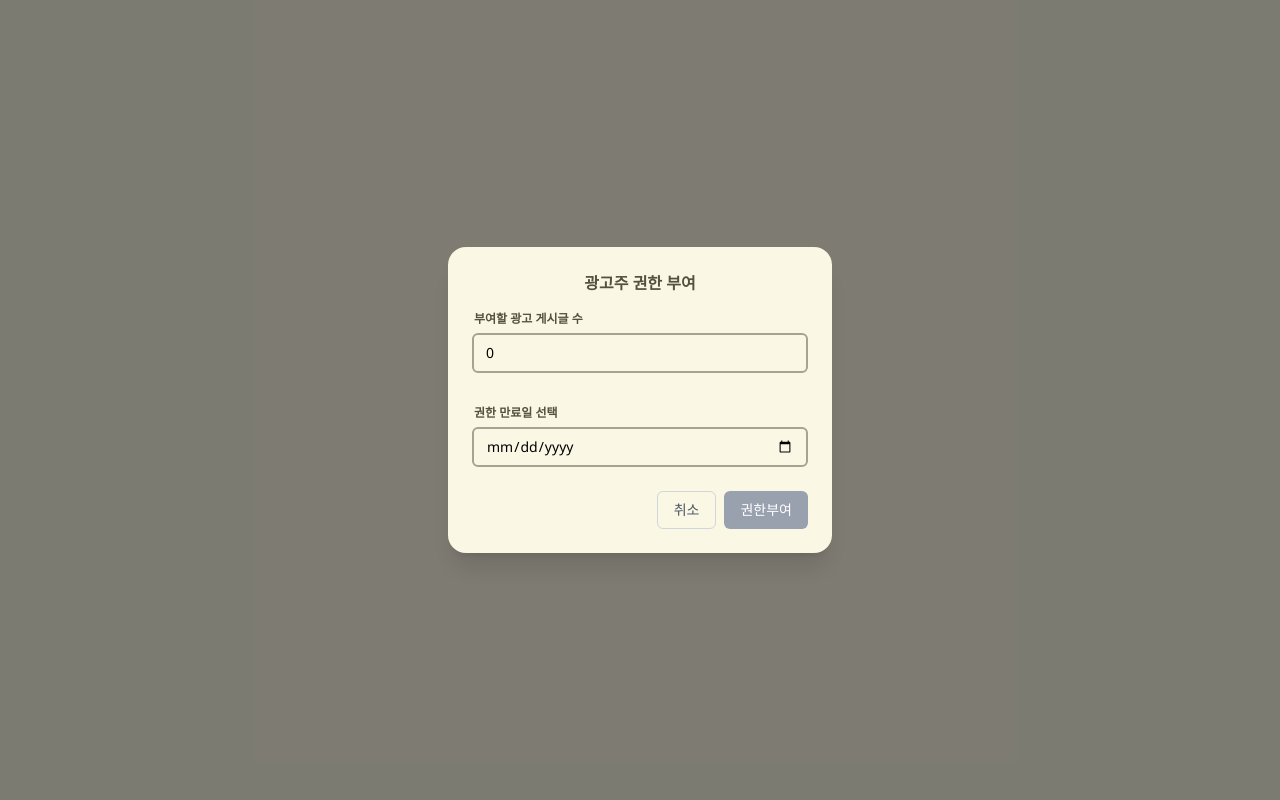
Test: PostAdvertiserRole 광고주 권한 부여 폼 종합 예외 방어 테스트 › 서버 통신 중(isLoading)일 때는 인풋창들과 모든 버튼이 락(disabled) 걸리고 '등록 중...' 텍스트가 나와야 한다
This screenshot has width=1280, height=800.
Replace the text in the number field with placeholder "부여할 광고 게시글 수를 입력하세요 (숫자)" with "5". click: (640, 353)
box: [472, 333, 808, 373]
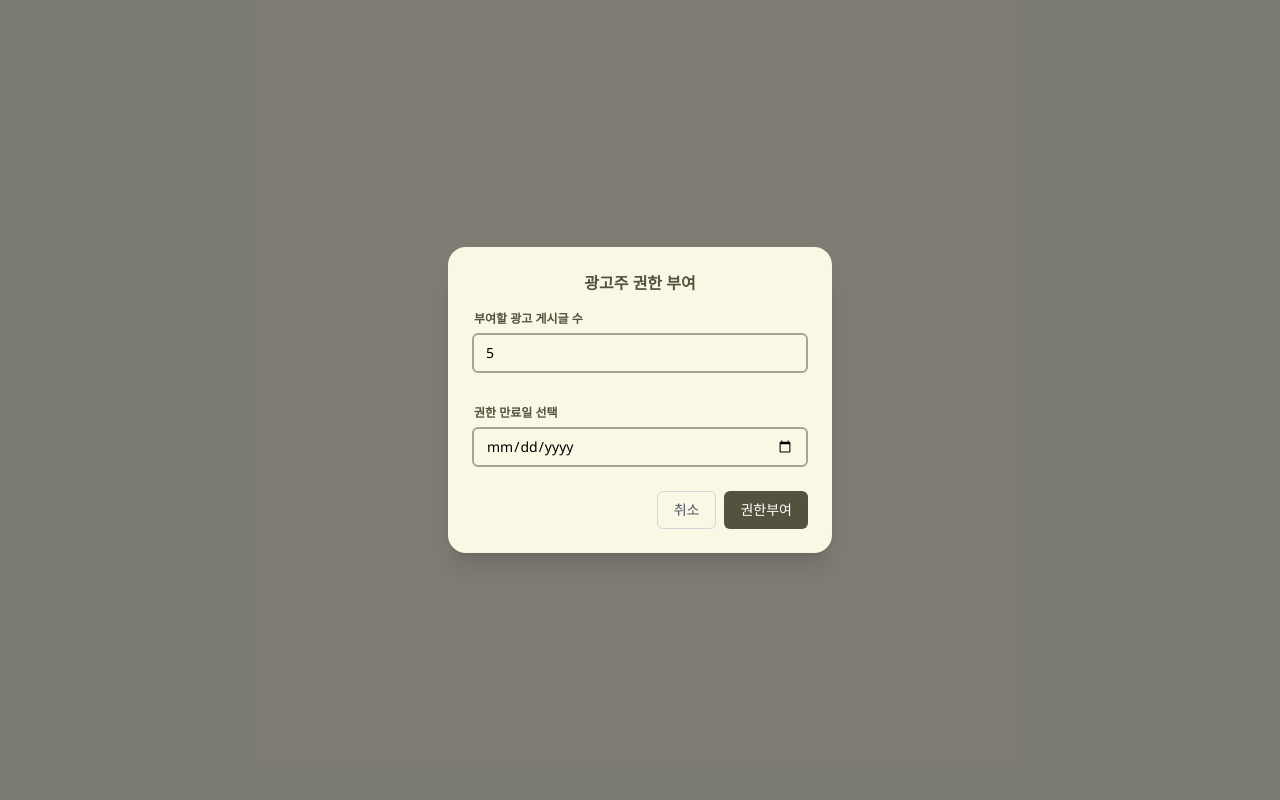
Type "2026-12-31" into the date field. click: (640, 447)
box: [472, 427, 808, 467]
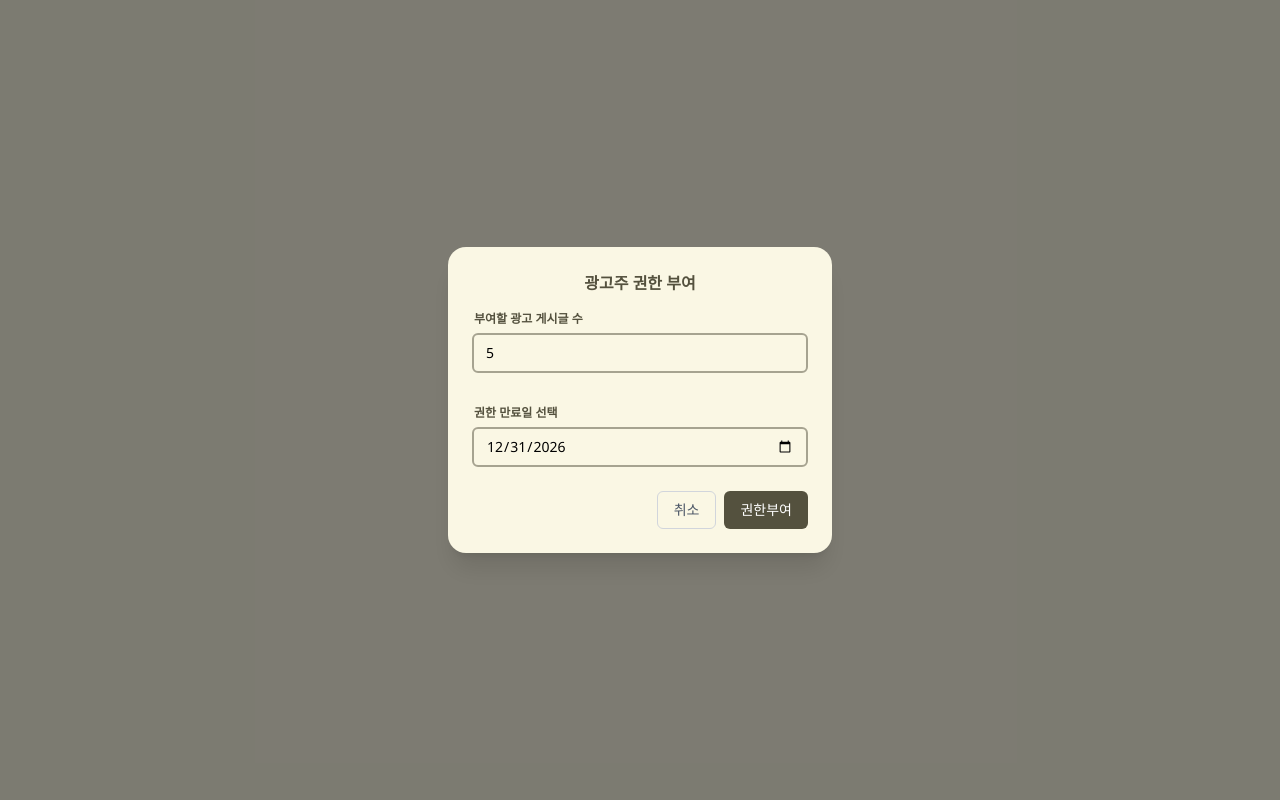
Submit the form "권한부여", box [472, 311, 808, 529]
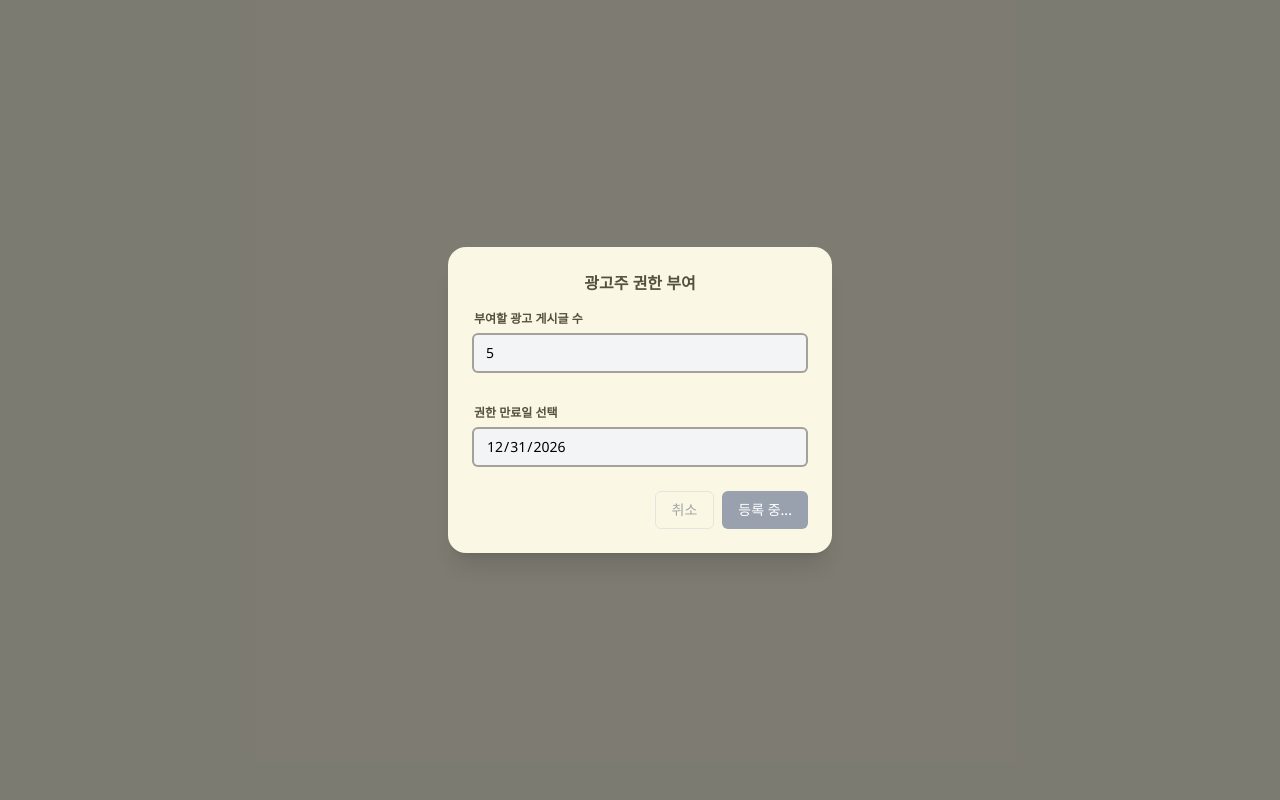
Expected: the number field with placeholder "부여할 광고 게시글 수를 입력하세요 (숫자)" is disabled, [472, 333, 808, 373]
Expected: the date field is disabled, [472, 427, 808, 467]
Expected: the button "등록 중..." is disabled, [722, 491, 808, 529]
